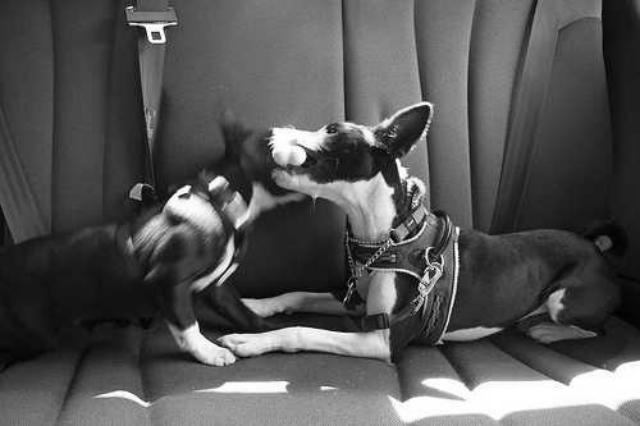Seatbelt: (486, 1, 562, 236), (118, 0, 184, 200), (0, 94, 52, 249)
